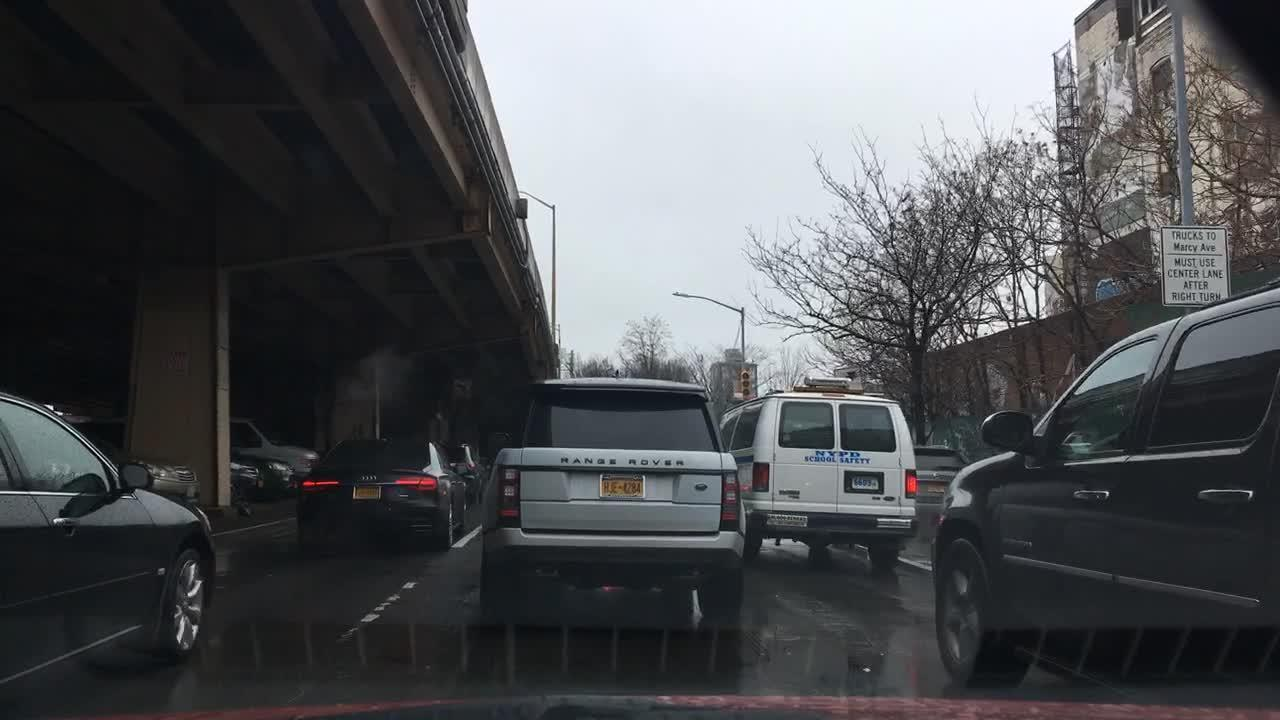Audi: (354, 469, 387, 488)
range rover: (555, 450, 690, 477)
